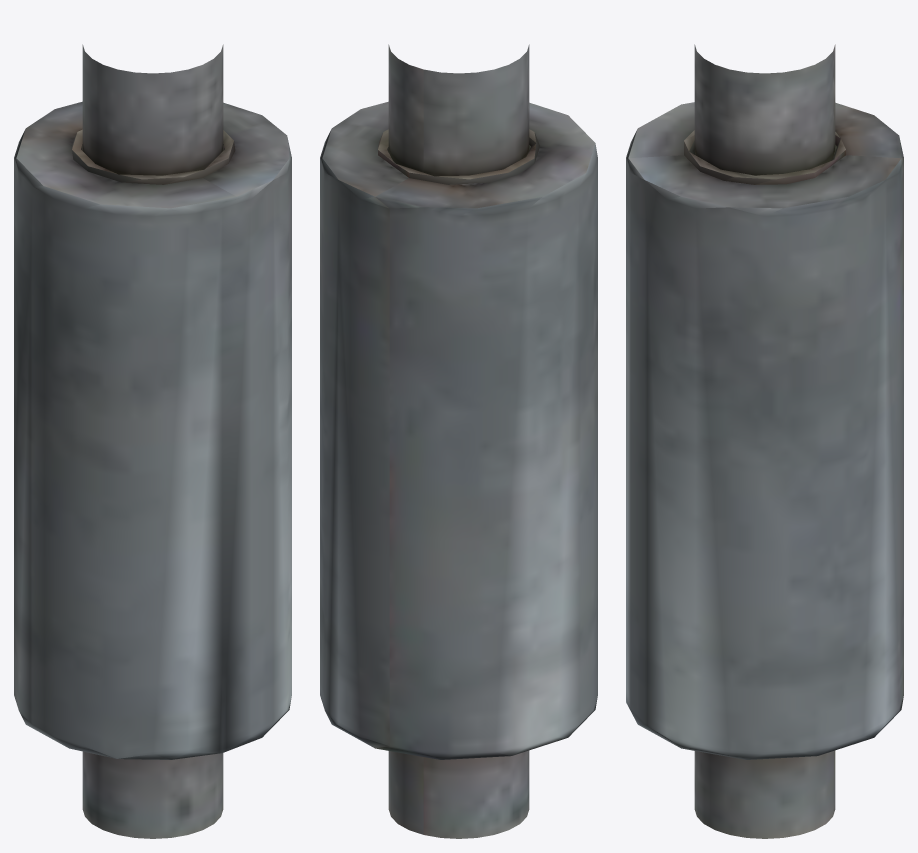
Rendered from modular-pipes-valve-chamber.glb.
3 renders of one model, left to right at view 1: azimuth 30°, elevation 25°; view 2: azimuth 150°, elevation 25°; view 3: azimuth 270°, elevation 25°, orthographic.
Parts seen in each view (by area): view 1: modular_pipes_valve_chamber; view 2: modular_pipes_valve_chamber; view 3: modular_pipes_valve_chamber.
Part boxes in pixels (x1,y1,x2,y2): modular_pipes_valve_chamber: (14,44,291,838); modular_pipes_valve_chamber: (320,44,597,838); modular_pipes_valve_chamber: (626,44,903,838).
Bounding box in the file's own units: 0.1974 × 0.6 × 0.1974.
1 material, 1 textured.
